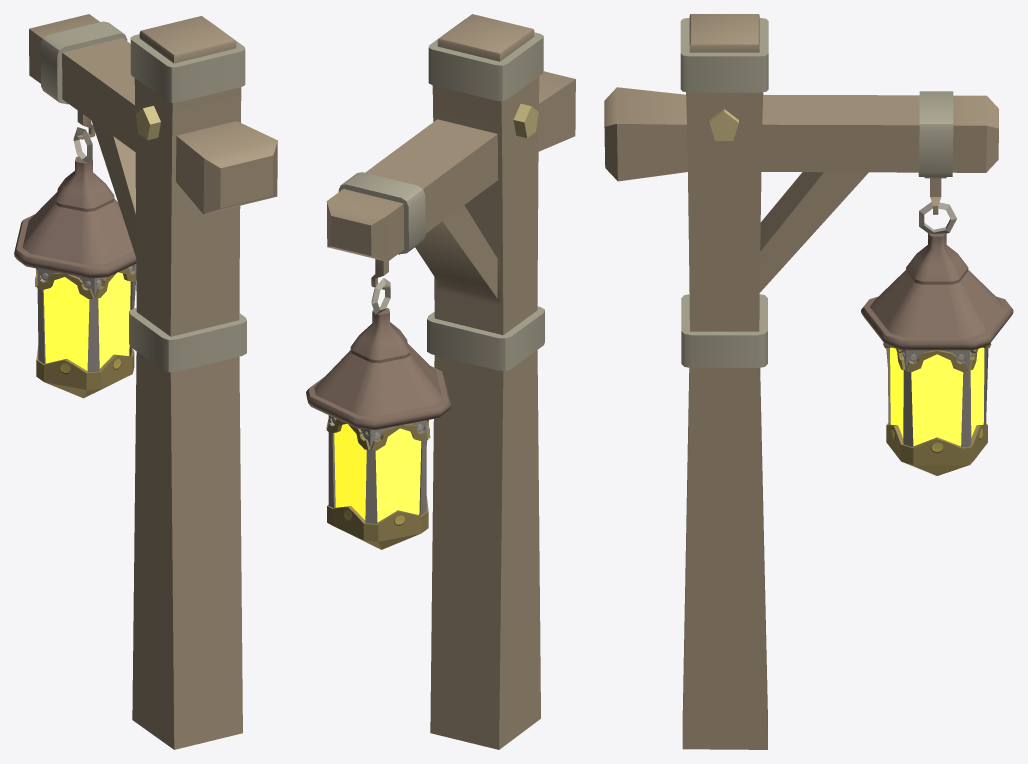
Rendered from lantarn.fbx.
3 renders of one model, left to right at view 1: azimuth 30°, elevation 25°; view 2: azimuth 150°, elevation 25°; view 3: azimuth 270°, elevation 25°, orthographic.
Visible parts, largest first — view 1: LantaarnPaal, LantaarnLight; view 2: LantaarnPaal, LantaarnLight; view 3: LantaarnPaal, LantaarnLight.
Boxes of the visible parts, x1,y1,x2,y2 form: LantaarnPaal: (14, 14, 277, 749); LantaarnLight: (43, 272, 130, 370); LantaarnPaal: (306, 14, 575, 749); LantaarnLight: (334, 424, 421, 522); LantaarnPaal: (604, 14, 1013, 749); LantaarnLight: (890, 347, 984, 446).
Bounding box in the file's own units: 0.5414 × 2.95 × 1.55.
